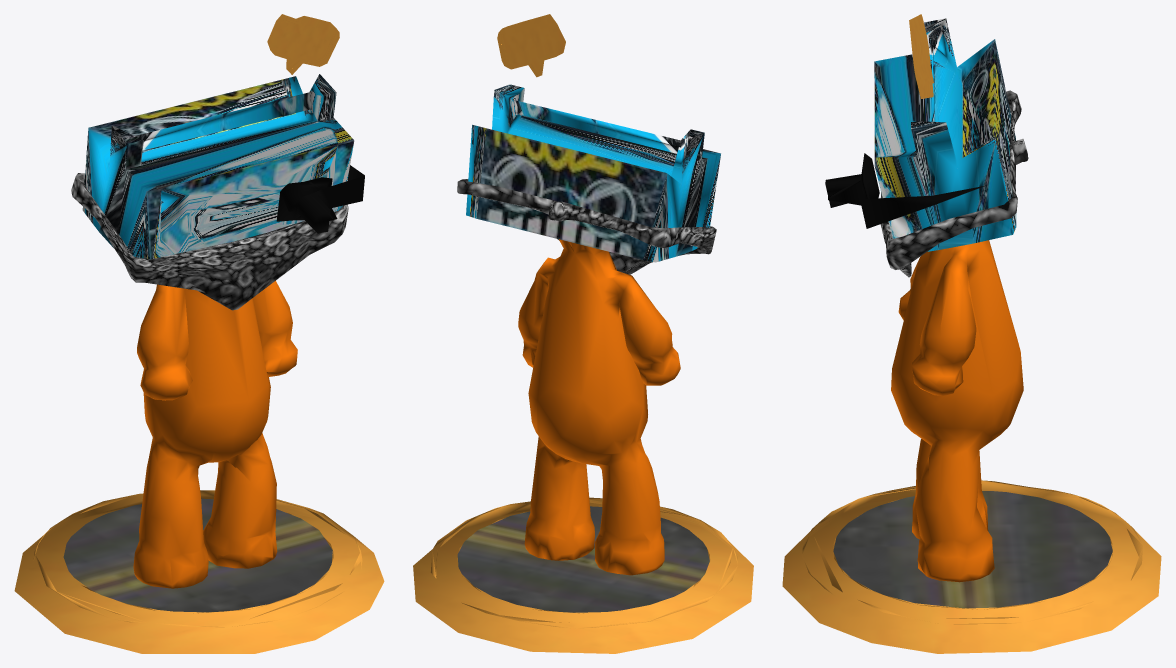
3 views of the same model, side by side, from view 1: azimuth 30°, elevation 25°; view 2: azimuth 150°, elevation 25°; view 3: azimuth 270°, elevation 25° (orthographic). The views are drawn at different scales.
Bounding box in the file's own units: 1.41 × 2.44 × 1.42.
Materials: 6 (4 with a texture image).
